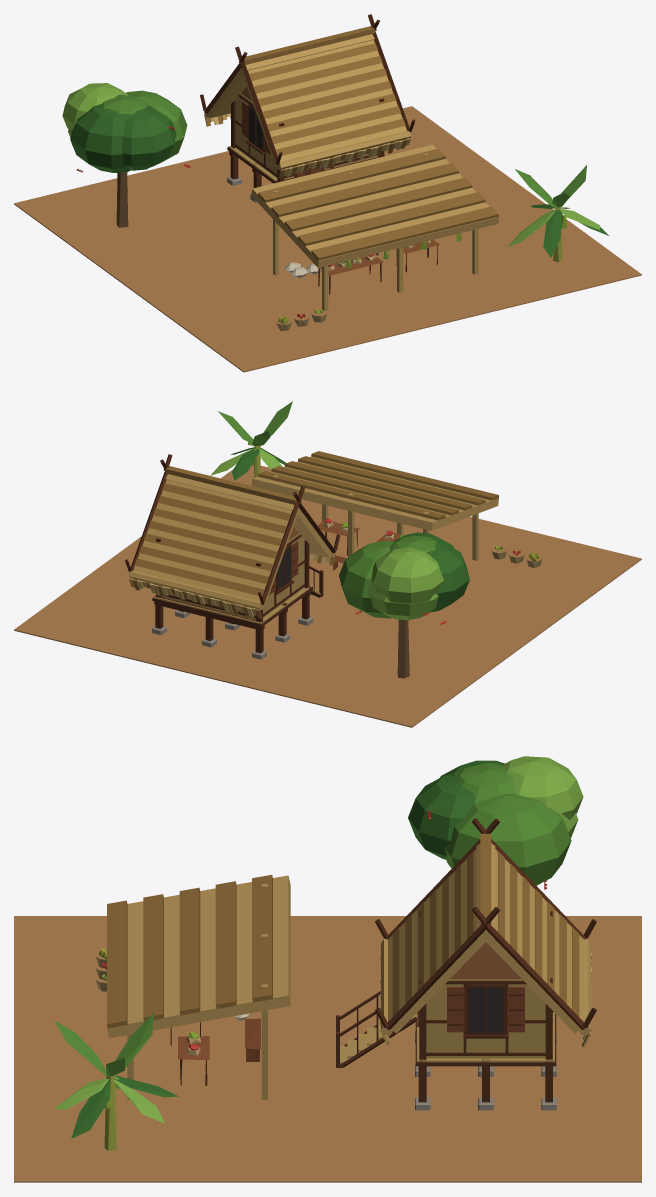
Rendered from shop_1.glb.
3 views of the same model, one above another, from view 1: azimuth 30°, elevation 25°; view 2: azimuth 150°, elevation 25°; view 3: azimuth 270°, elevation 25° (orthographic). The views are drawn at different scales.
Parts seen in each view (by area): view 1: body; view 2: body; view 3: body, windows.
Part boxes in pixels (bbox=[...]): body: bbox=[14, 14, 641, 372]; body: bbox=[14, 401, 641, 727]; body: bbox=[14, 756, 641, 1182]; windows: bbox=[468, 987, 503, 1032].
Bounding box in the file's own units: 15.9 × 5.98 × 15.9.
